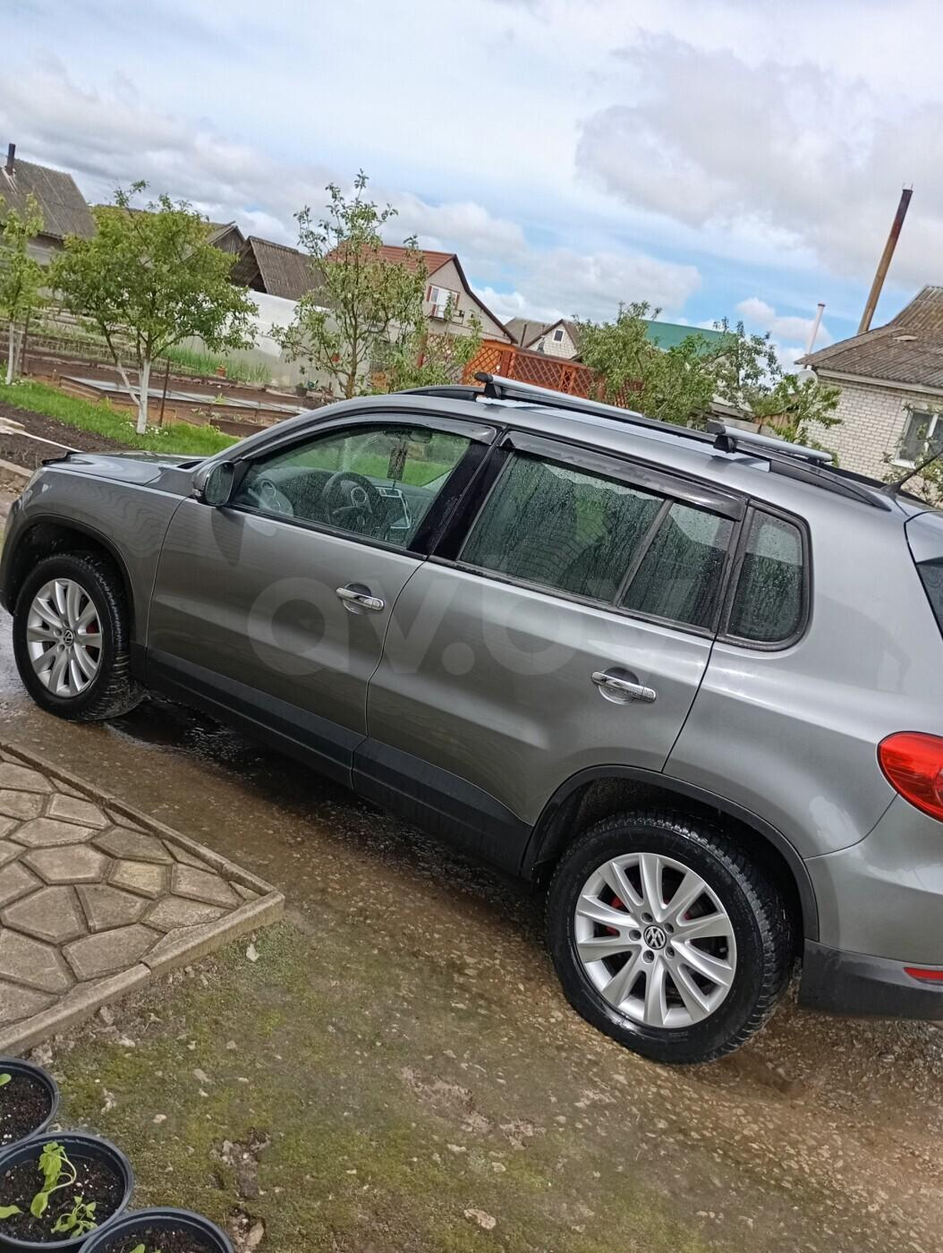Tiguan_2007-2011: (0, 374, 943, 1067)
